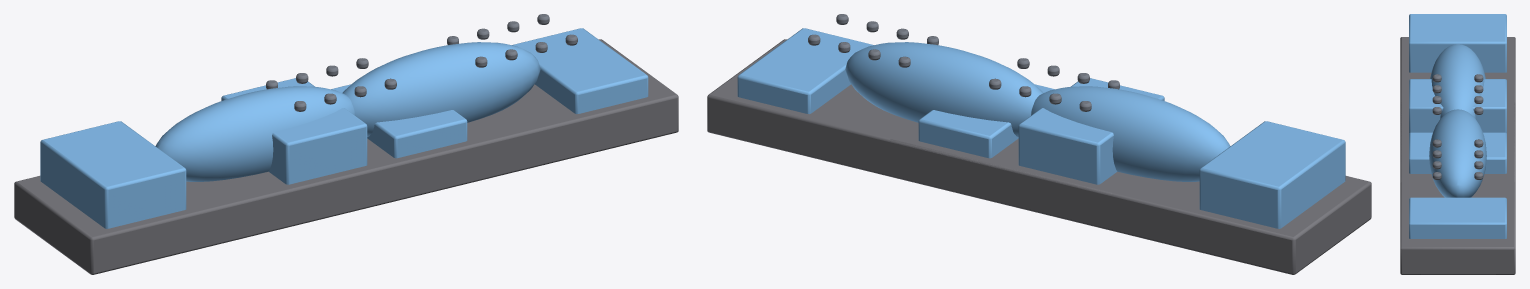
Rendered from SM_COS_SHOES_RUNNING.fbx.
The picture shows the model from 3 angles, left to right: view 1: azimuth 30°, elevation 25°; view 2: azimuth 150°, elevation 25°; view 3: azimuth 270°, elevation 25°; orthographic projection. The views are drawn at different scales.
Parts seen in each view (by area): view 1: SM_COS_SHOES_RUNNING; view 2: SM_COS_SHOES_RUNNING; view 3: SM_COS_SHOES_RUNNING.
Boxes of the visible parts, left/top/right/bottom form: SM_COS_SHOES_RUNNING: left=14, top=14, right=678, bottom=274; SM_COS_SHOES_RUNNING: left=707, top=14, right=1371, bottom=274; SM_COS_SHOES_RUNNING: left=1400, top=14, right=1515, bottom=274.
Size of what is drawn, in the model's own units: 0.39 by 0.065 by 0.09.
